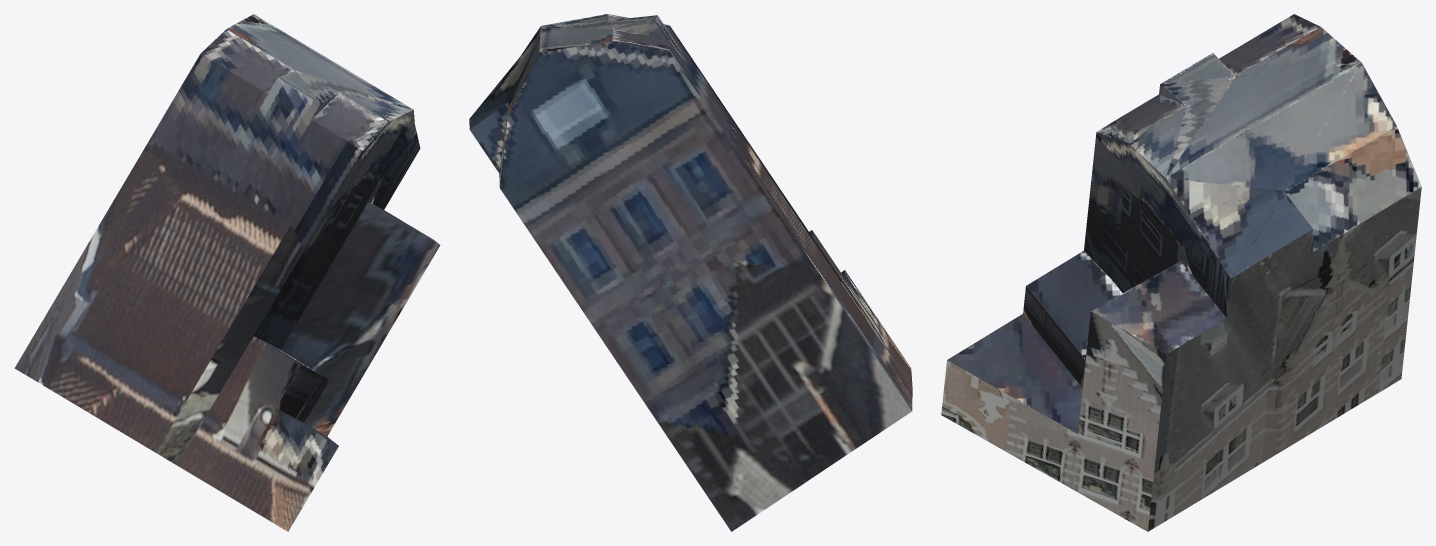
3 renders of one model, left to right at view 1: azimuth 30°, elevation 25°; view 2: azimuth 150°, elevation 25°; view 3: azimuth 270°, elevation 25°, orthographic. The views are drawn at different scales.
Visible parts, largest first — view 1: BAG_0599100000650101 (×6); view 2: BAG_0599100000650101 (×5); view 3: BAG_0599100000650101 (×6).
Part boxes in pixels (box(x1,y1,x2,y2)): BAG_0599100000650101 (×6): box(14, 14, 440, 531); BAG_0599100000650101 (×5): box(469, 14, 912, 531); BAG_0599100000650101 (×6): box(941, 14, 1421, 531).
Bounding box in the file's own units: 15.68 × 16.55 × 13.81.
1 material, 1 textured.
